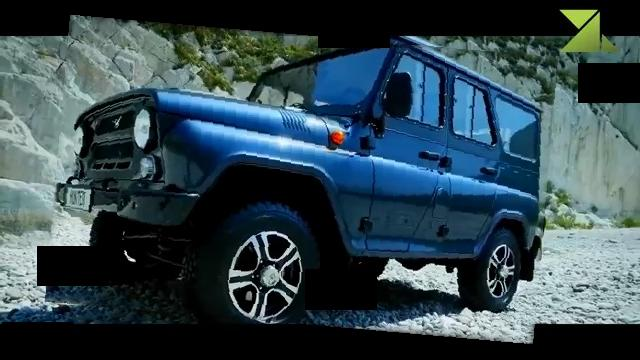MIL_HMMWV: (52, 26, 553, 334)
